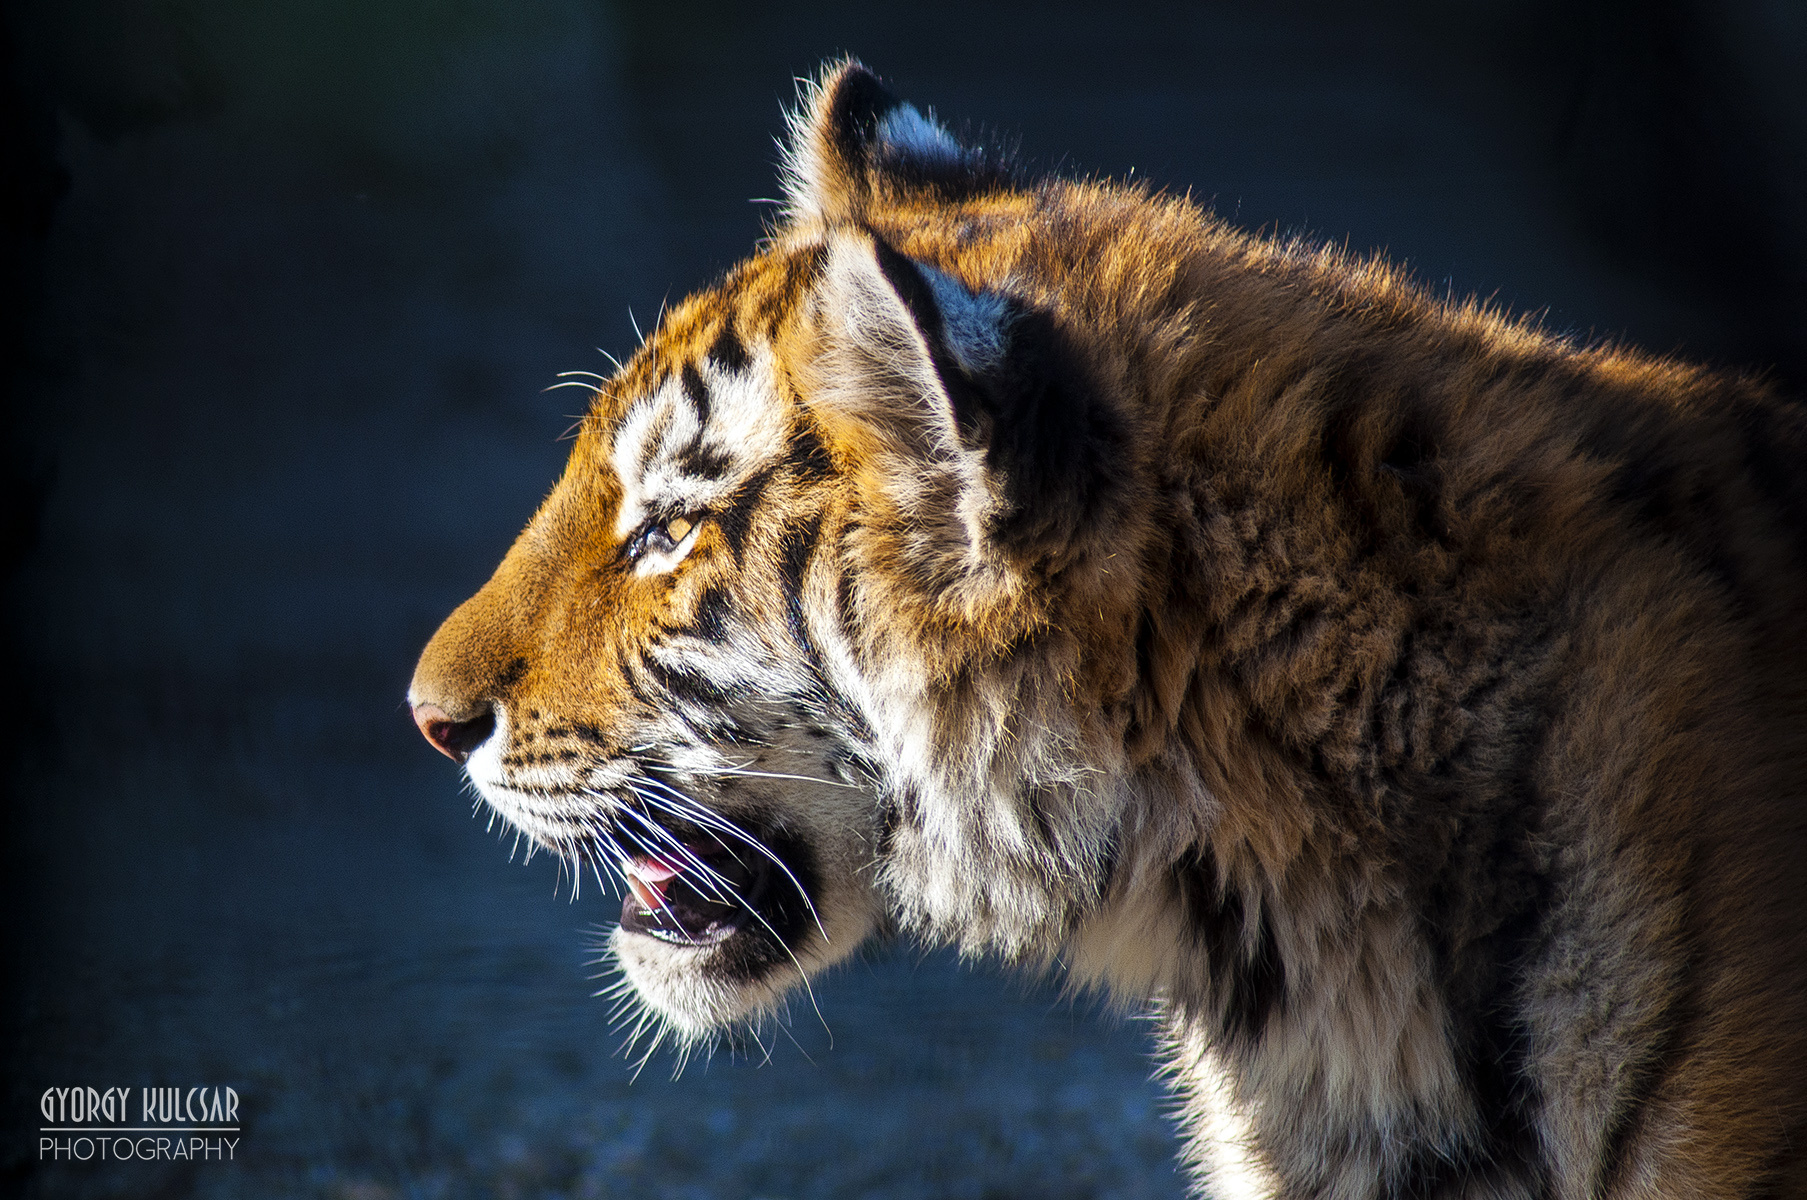tiger: (410, 106, 1768, 1161)
